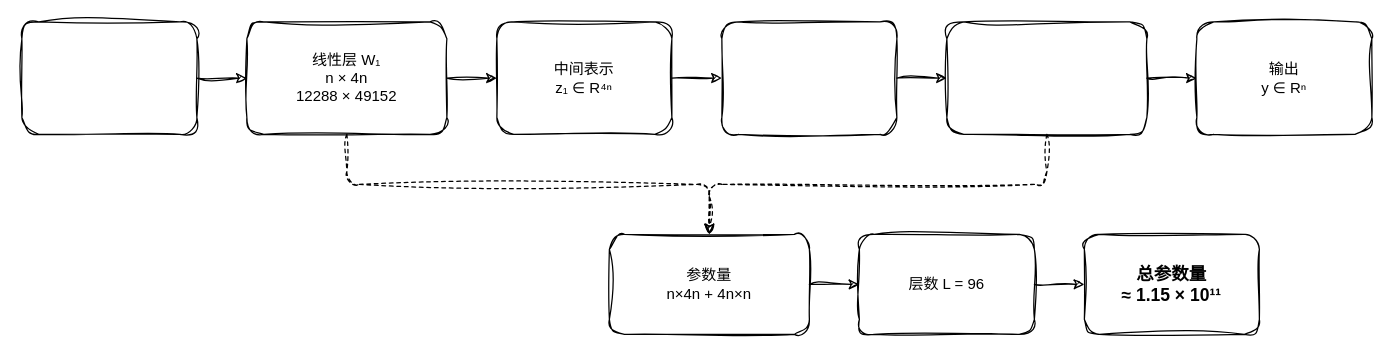
The diagram is 1394 pixels wide and 356 high, and some of its shapes have lost their labels. The shapes that lost their labels are listed below. From the top down, each one's centre as x and y in pixels, then its label:
At [109,77]: "隐藏状态 x ∈ Rⁿ n = 12288".
At [809,77]: "激活函数 GELU".
At [1046,77]: "线性层 W₂ 4n × n 49152 × 12288".
